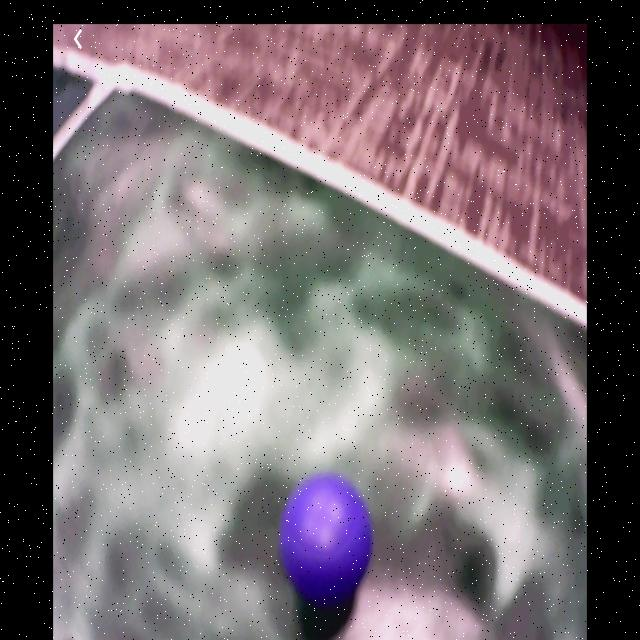ball: (283, 476, 373, 602)
